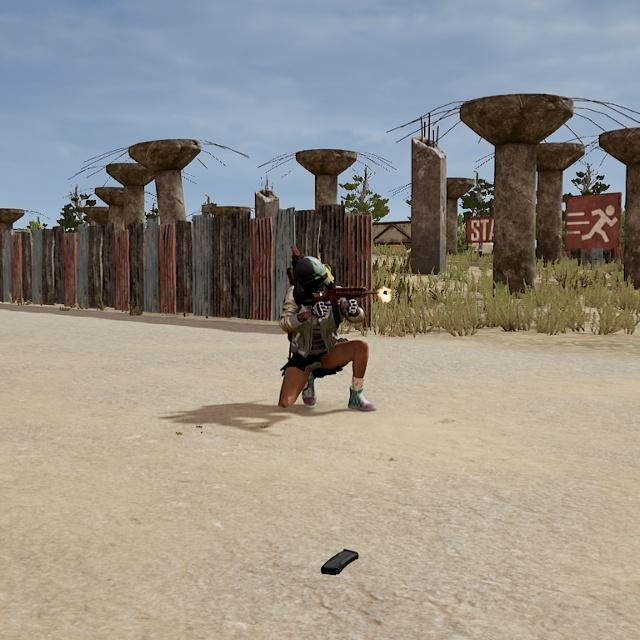head: (293, 255, 334, 298)
people: (277, 254, 377, 414)
